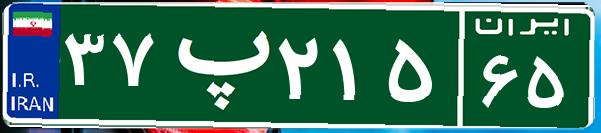1: (330, 28, 385, 110)
2: (273, 28, 330, 110)
3: (57, 26, 110, 107)
5: (385, 28, 445, 110), (525, 38, 570, 115)
6: (475, 38, 525, 113)
7: (110, 28, 158, 105)
پ: (158, 15, 273, 115)
